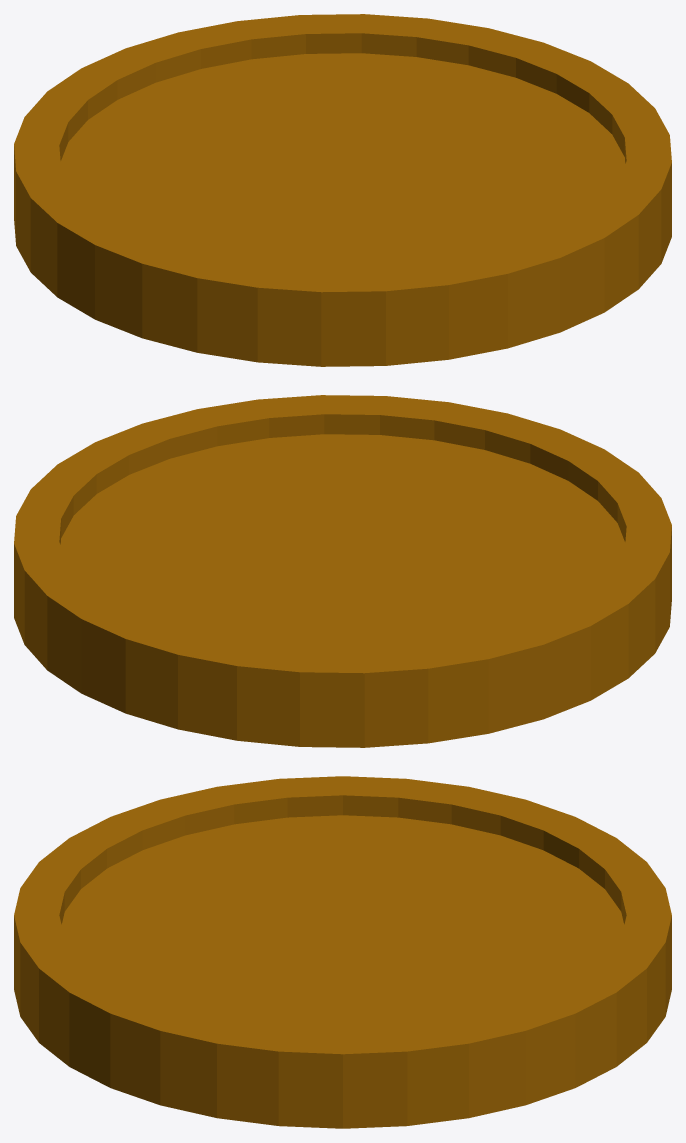
The model's file is Sovereign .fbx.
3 renders of one model, top to bottom at view 1: azimuth 30°, elevation 25°; view 2: azimuth 150°, elevation 25°; view 3: azimuth 270°, elevation 25°, orthographic.
Parts seen in each view (by area): view 1: Coin; view 2: Coin; view 3: Coin.
Boxes of the visible parts, <box> form: Coin: <box>14,14,671,366</box>; Coin: <box>14,395,671,747</box>; Coin: <box>14,776,671,1128</box>.
Bounding box in the file's own units: 20 × 2.5 × 20.
